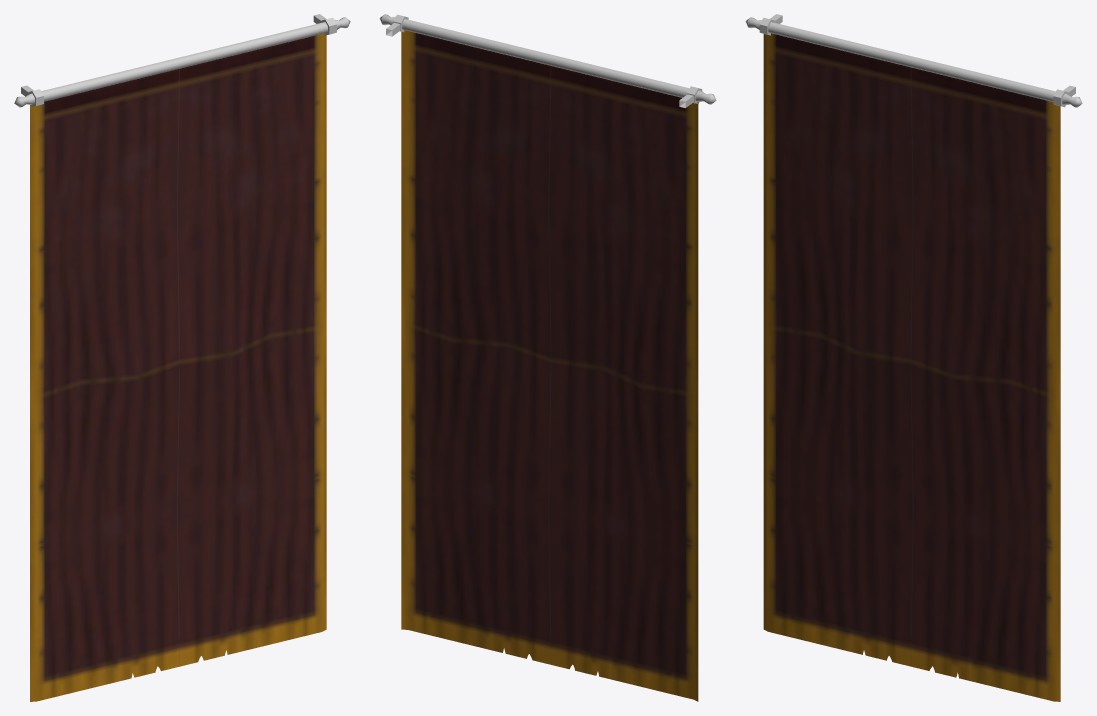
File: Curtain_5B.fbx
The picture shows the model from 3 angles, left to right: view 1: azimuth 30°, elevation 25°; view 2: azimuth 150°, elevation 25°; view 3: azimuth 330°, elevation 25°; orthographic projection.
Visible parts, largest first — view 1: Alpha, polySurface7659; view 2: Alpha, polySurface7659; view 3: Alpha, polySurface7659.
Part boxes in pixels (x1,y1,x2,y2): Alpha: [30, 33, 326, 701]; polySurface7659: [14, 14, 350, 107]; Alpha: [401, 30, 698, 701]; polySurface7659: [379, 14, 716, 108]; Alpha: [763, 33, 1060, 701]; polySurface7659: [745, 14, 1082, 107].
Size of the model in its own units: 4.36 by 7.58 by 0.3868.
